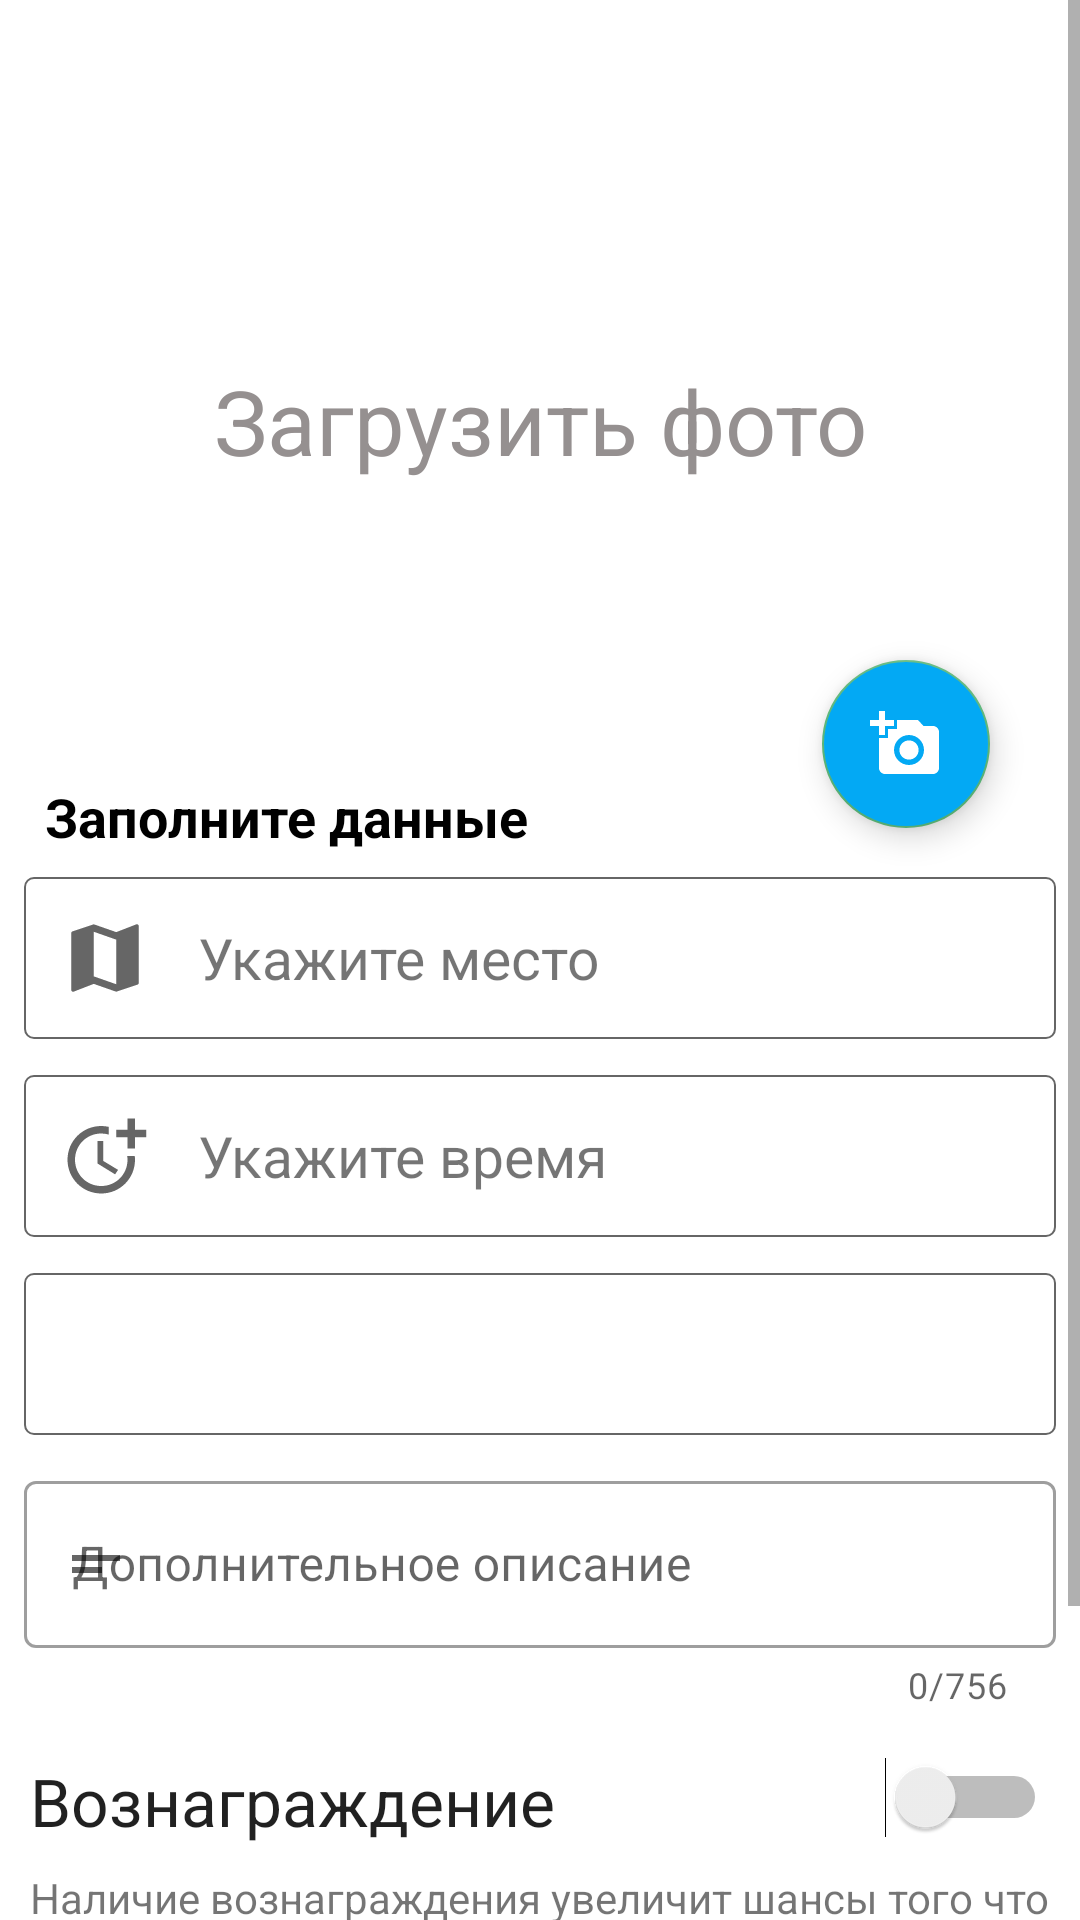

Named icons in this screenshot (1080x1920) and their bounding boxes, bbox(x1, y1, x2, y2):
add photo: bbox(822, 660, 990, 828)
map: bbox(71, 924, 139, 992)
time add: bbox(67, 1118, 147, 1194)
